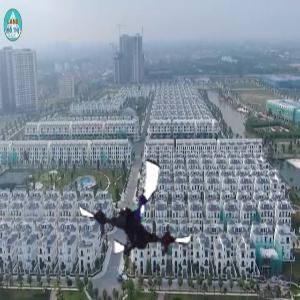drone: (73, 148, 200, 275)
